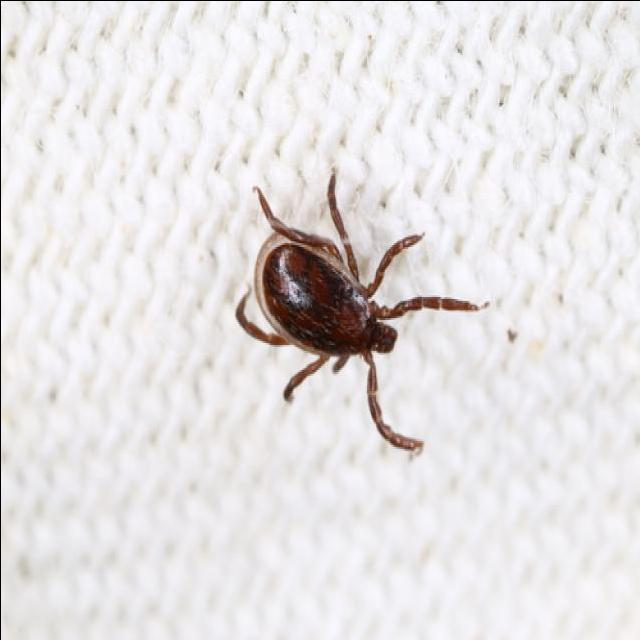Ixodes Ricinus-M: (234, 171, 480, 454)
